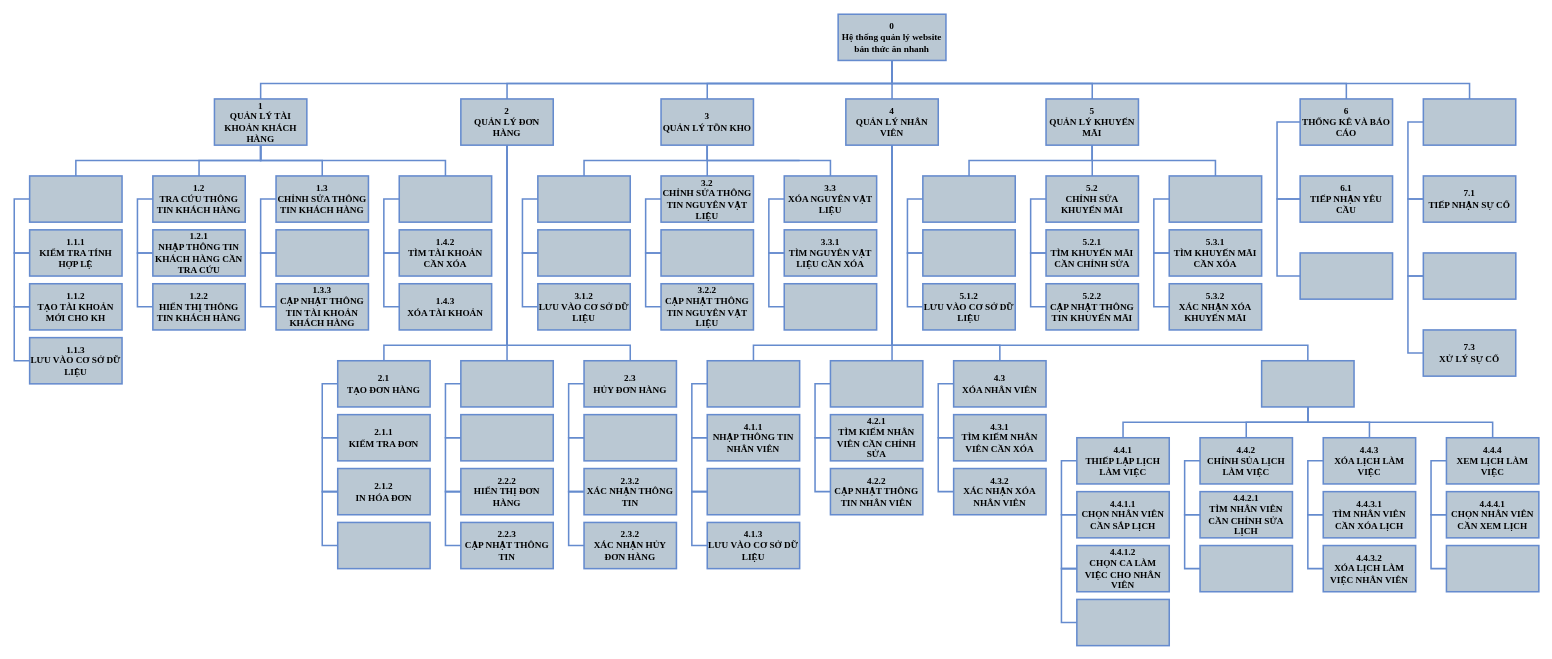
Some shapes in this 1552 by 659 pixel diagram are drawn without their labels. Here are the shapes that lost their labels. From the top down, the box of each, then its label:
(1422, 98, 1516, 146): 7 QUẢN LÝ SỰ CỐ
(28, 175, 122, 223): 1.1 THÊM TÀI KHOẢN KHÁCH HÀNG
(398, 175, 492, 223): 1.4 XÓA TÀI KHOẢN KHÁCH HÀNG
(537, 175, 631, 223): 3.1 THÊM NGUYÊN VẬT LIỆU
(922, 175, 1016, 223): 5.1 THÊM KHYẾN MÃI
(1168, 175, 1262, 223): 5.3 XÓA KHUYẾN MÃI
(275, 229, 369, 276): 1.3.1 TÌM TÀI KHOẢN KHÁCH HÀNG CẦN CHỈNH SỬA
(537, 229, 631, 276): 3.1.1 NHẬP THÔNG TIN NGUYÊN VẬT LIỆU
(660, 229, 754, 276): 3.2.1 TÌM NGUYÊN VẬT LIỆU CẦN CHỈNH SỬA
(922, 229, 1016, 276): 5.1.1 NHẬP THÔNG TIN KHUYẾN MÃI
(1299, 252, 1393, 300): 6.2 TRẢ KẾT QUẢ
(1422, 252, 1516, 300): 7.2 KIỂM TRA SỰ CỐ
(783, 283, 877, 330): 3.3.2 XÁC NHẬN XÓA NGUYÊN VẬT LIỆU
(460, 360, 554, 407): 2.2 CHỈNH SỬA ĐƠN HÀNG
(706, 360, 800, 407): 4.1 THÊM NHÂN VIÊN
(829, 360, 923, 407): 4.2 CHỈNH SỬA THÔNG TIN NHÂN VIÊN
(1260, 360, 1354, 407): 4.4 QUẢN LÝ LỊCH LÀM VIỆC
(460, 413, 554, 461): 2.2.1 TÌM ĐƠN HÀNG CẦN CHỈNH SỬA
(583, 413, 677, 461): 2.3.1 TÌM ĐƠN HÀNG CẦN HỦY
(706, 467, 800, 515): 4.1.2 PHÂN QUYỀN NHÂN VIÊN
(337, 521, 431, 569): 2.1.3 GIAO HÀNG
(1199, 544, 1293, 592): 4.4.2.2 CẬP NHẬT LỊCH LÀM VIỆC NHÂN VIÊN
(1445, 544, 1539, 592): 4.4.4.2 HIỂN THỊ LỊCH LÀM VIỆC CỦA NHÂN VIÊN
(1076, 598, 1170, 646): 4.4.1.3 LƯU LỊCH LÀM VIỆC VÀO CSDL
